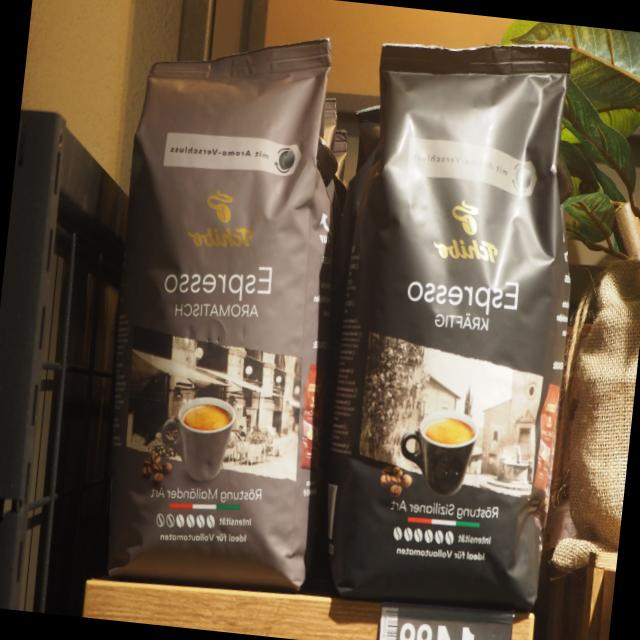Espresso Aromatisch: (80, 11, 370, 612)
Espresso Kraftig: (308, 19, 601, 628)
